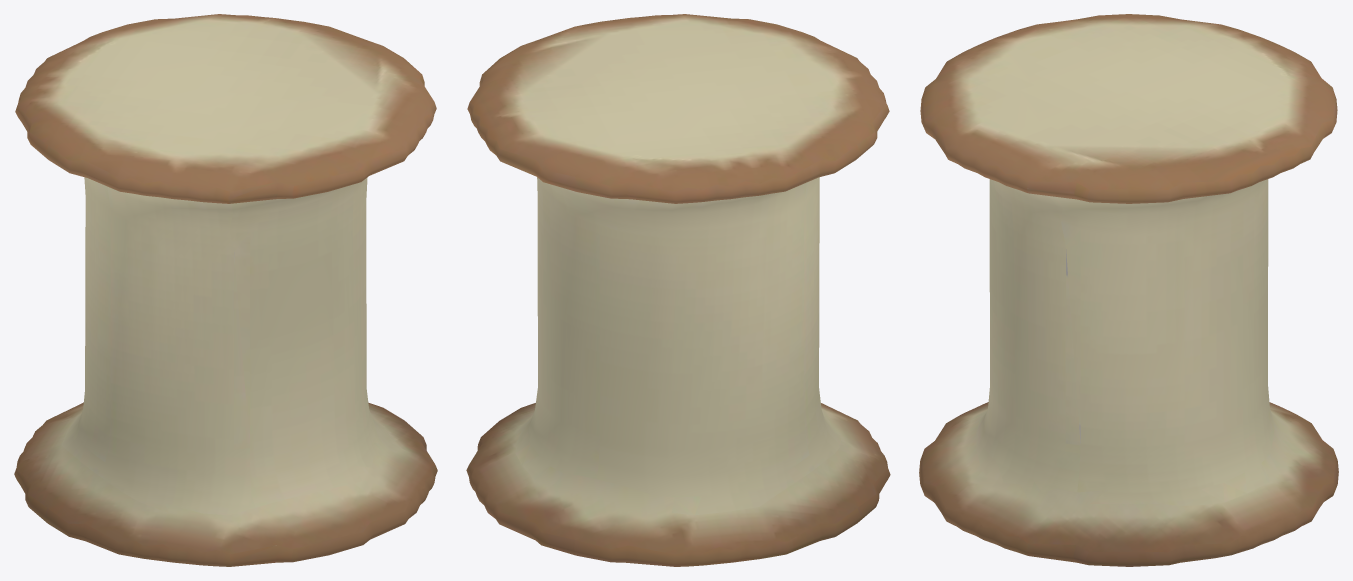
File: item_string.glb
The picture shows the model from 3 angles, left to right: view 1: azimuth 30°, elevation 25°; view 2: azimuth 150°, elevation 25°; view 3: azimuth 270°, elevation 25°; orthographic projection.
Visible parts, largest first — view 1: string_spool; view 2: string_spool; view 3: string_spool.
Boxes of the visible parts, bbox=[...] form: string_spool: bbox=[14, 14, 437, 566]; string_spool: bbox=[466, 14, 890, 566]; string_spool: bbox=[919, 14, 1338, 566].
Bounding box in the file's own units: 0.5011 × 0.5199 × 0.5011.
Materials: 1 (1 with a texture image).
